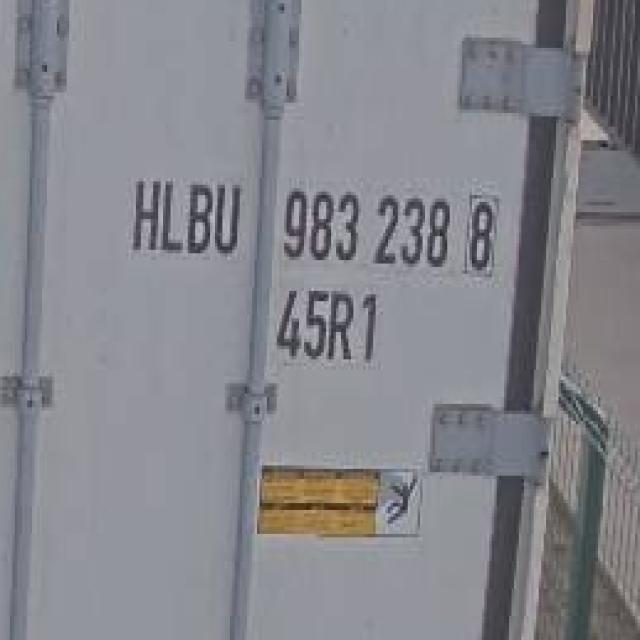dv: (459, 185, 504, 282)
owner: (122, 168, 248, 269)
serial: (272, 178, 453, 272)
size: (270, 277, 390, 367)
